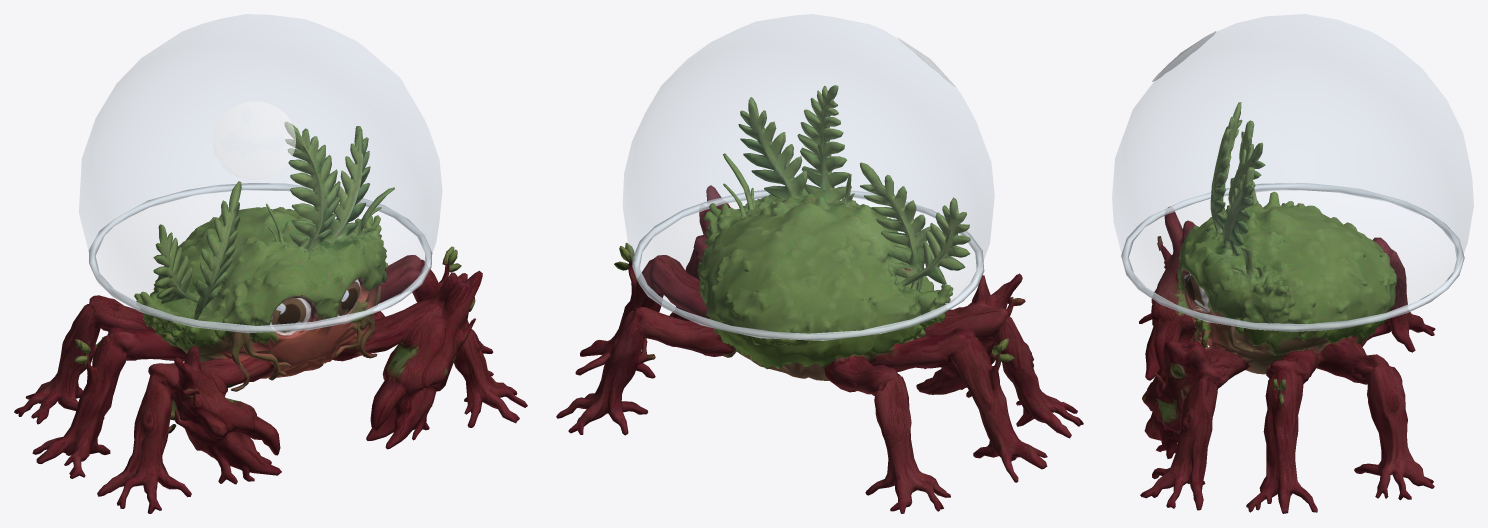
3 renders of one model, left to right at view 1: azimuth 30°, elevation 25°; view 2: azimuth 150°, elevation 25°; view 3: azimuth 270°, elevation 25°, orthographic. The views are drawn at different scales.
Visible parts, largest first — view 1: Mesh_0; view 2: Mesh_0; view 3: Mesh_0.
Boxes of the visible parts, x1=… form: Mesh_0: x1=14, y1=14, x2=527, y2=513; Mesh_0: x1=556, y1=14, x2=1083, y2=513; Mesh_0: x1=1112, y1=14, x2=1473, y2=513.
Size of the model in its own units: 1.9 by 1.52 by 1.31.
Materials: 4 (1 with a texture image).
